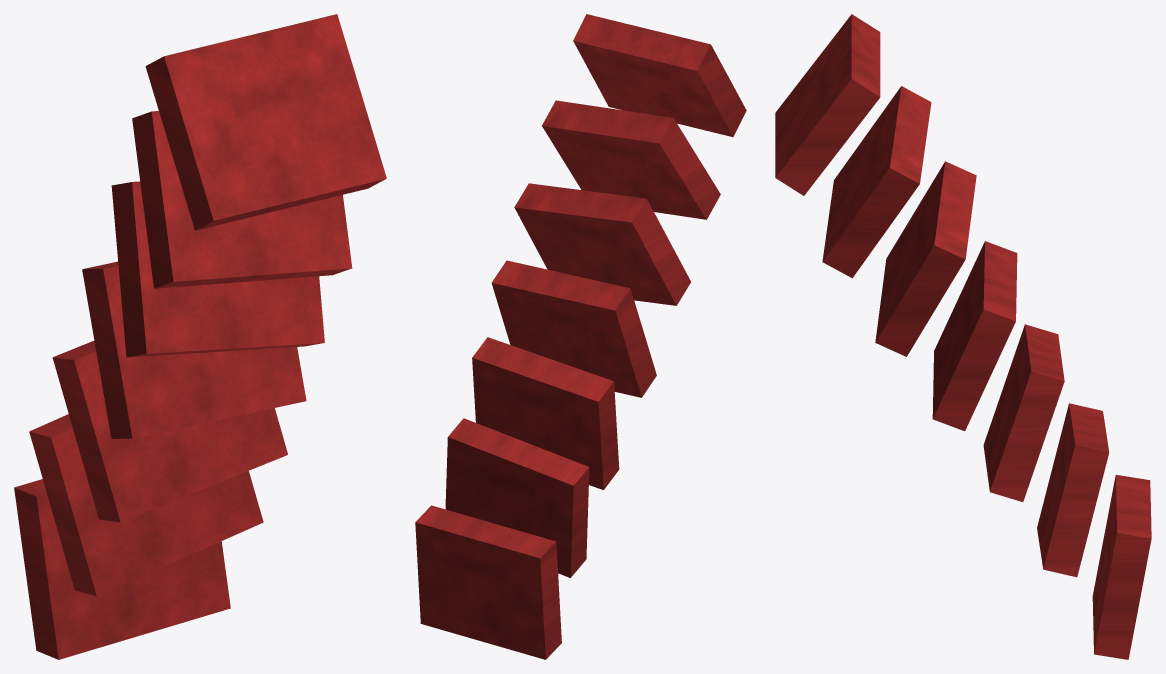
File: rival_alder_scarf.obj
3 views of the same model, side by side, from view 1: azimuth 30°, elevation 25°; view 2: azimuth 150°, elevation 25°; view 3: azimuth 270°, elevation 25° (orthographic). The views are drawn at different scales.
Parts seen in each view (by area): view 1: rival_alder_scarf; view 2: rival_alder_scarf; view 3: rival_alder_scarf.
Part boxes in pixels (x1,y1,x2,y2): rival_alder_scarf: [14, 14, 386, 659]; rival_alder_scarf: [415, 14, 746, 659]; rival_alder_scarf: [775, 14, 1151, 659].
Bounding box in the file's own units: 0.1795 × 0.5595 × 0.3357.
